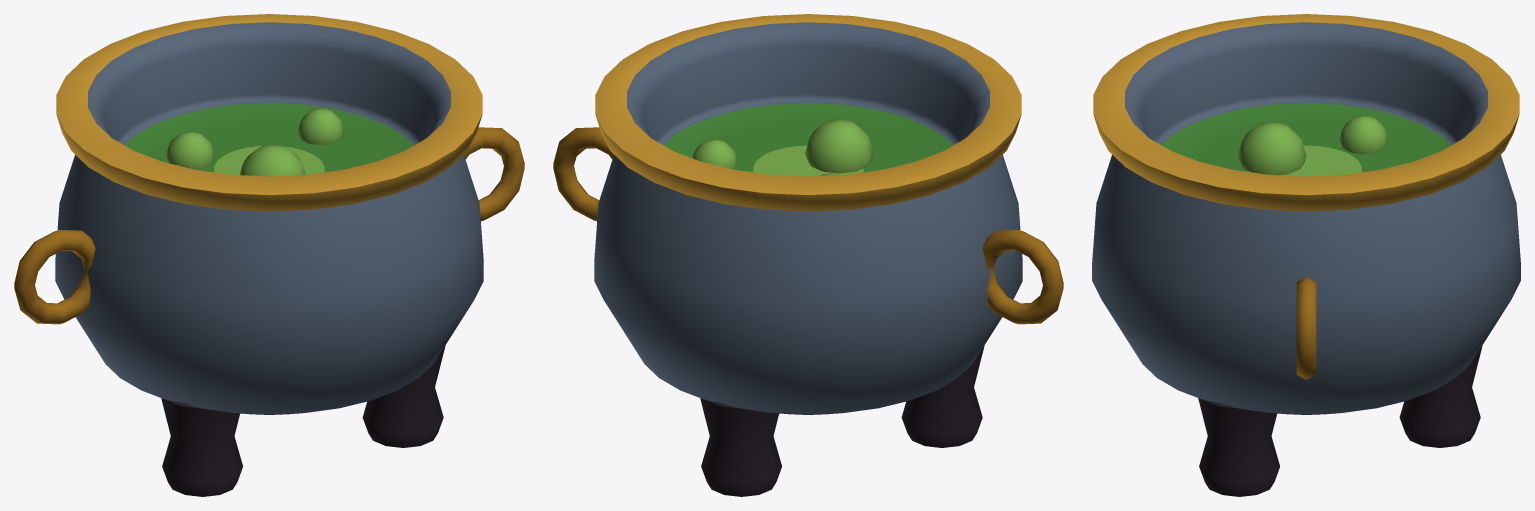
Rendered from Cauldron_15.glb.
3 views of the same model, side by side, from view 1: azimuth 30°, elevation 25°; view 2: azimuth 150°, elevation 25°; view 3: azimuth 270°, elevation 25° (orthographic).
Visible parts, largest first — view 1: Cauldron_15; view 2: Cauldron_15; view 3: Cauldron_15.
Boxes of the visible parts, x1,y1,x2,y2 form: Cauldron_15: (14,14,524,496); Cauldron_15: (553,14,1063,496); Cauldron_15: (1092,14,1520,496).
Bounding box in the file's own units: 4.06 × 2.54 × 2.95.
